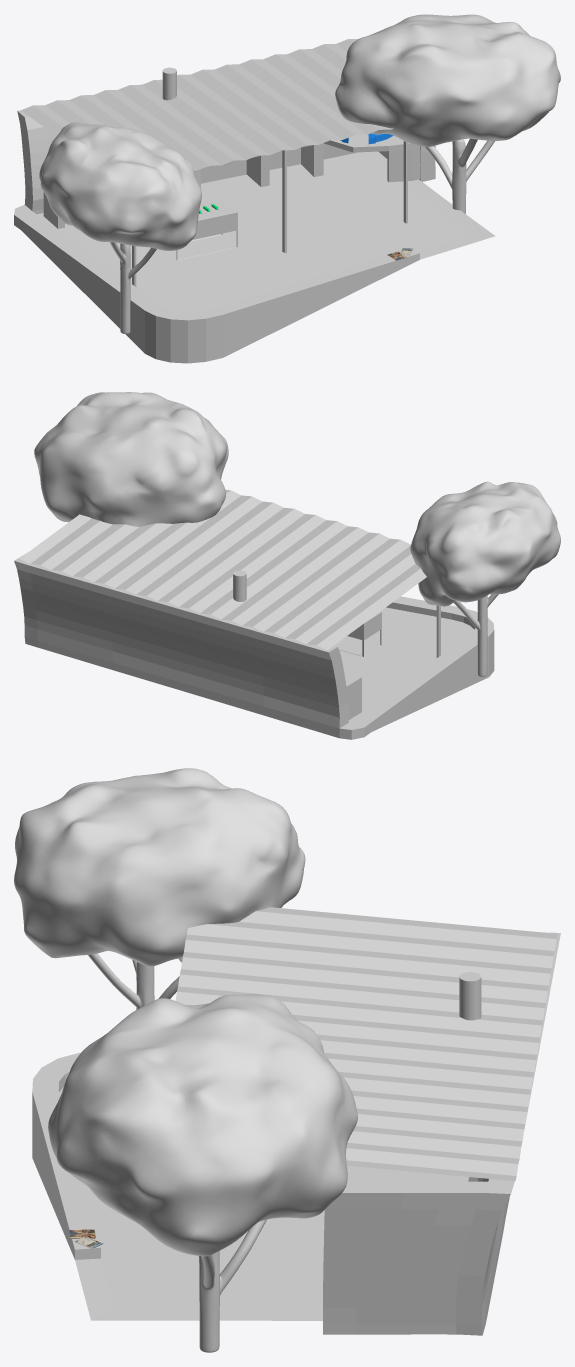
The model's file is modelCompress.glb.
The picture shows the model from 3 angles, top to bottom: view 1: azimuth 30°, elevation 25°; view 2: azimuth 150°, elevation 25°; view 3: azimuth 270°, elevation 25°; orthographic projection. The views are drawn at different scales.
Parts seen in each view (by area): view 1: Plane, 10448_Purple_Leaf_Plum_Tree_v1_Iteration2.001, Plane.001, 10448_Purple_Leaf_Plum_Tree_v1_Iteration2, Cube, Cube.002, Cube.004, Cylinder; view 2: Plane, Plane.001, 10448_Purple_Leaf_Plum_Tree_v1_Iteration2.001, 10448_Purple_Leaf_Plum_Tree_v1_Iteration2, Cube, Cube.002; view 3: Plane.001, 10448_Purple_Leaf_Plum_Tree_v1_Iteration2.001, Plane, 10448_Purple_Leaf_Plum_Tree_v1_Iteration2, Cylinder.
Boxes of the visible parts, left/top/right/bottom form: Plane: left=14, top=110, right=495, bottom=363; 10448_Purple_Leaf_Plum_Tree_v1_Iteration2.001: left=335, top=14, right=560, bottom=213; Plane.001: left=21, top=34, right=393, bottom=170; 10448_Purple_Leaf_Plum_Tree_v1_Iteration2: left=39, top=122, right=201, bottom=333; Cube: left=43, top=134, right=420, bottom=228; Cube.002: left=176, top=199, right=237, bottom=260; Cube.004: left=282, top=150, right=286, bottom=252; Cylinder: left=162, top=67, right=176, bottom=100; Plane: left=14, top=553, right=494, bottom=739; Plane.001: left=19, top=489, right=426, bottom=650; 10448_Purple_Leaf_Plum_Tree_v1_Iteration2.001: left=34, top=392, right=228, bottom=526; 10448_Purple_Leaf_Plum_Tree_v1_Iteration2: left=410, top=481, right=560, bottom=676; Cube: left=344, top=672, right=361, bottom=719; Cube.002: left=339, top=611, right=381, bottom=656; Plane.001: left=175, top=907, right=557, bottom=1181; 10448_Purple_Leaf_Plum_Tree_v1_Iteration2.001: left=48, top=994, right=357, bottom=1352; Plane: left=32, top=932, right=560, bottom=1335; 10448_Purple_Leaf_Plum_Tree_v1_Iteration2: left=14, top=768, right=305, bottom=1009; Cylinder: left=459, top=972, right=481, bottom=1020.
Bounding box in the file's own units: 12.35 × 5.14 × 7.46.
Materials: 8 (2 with a texture image).
